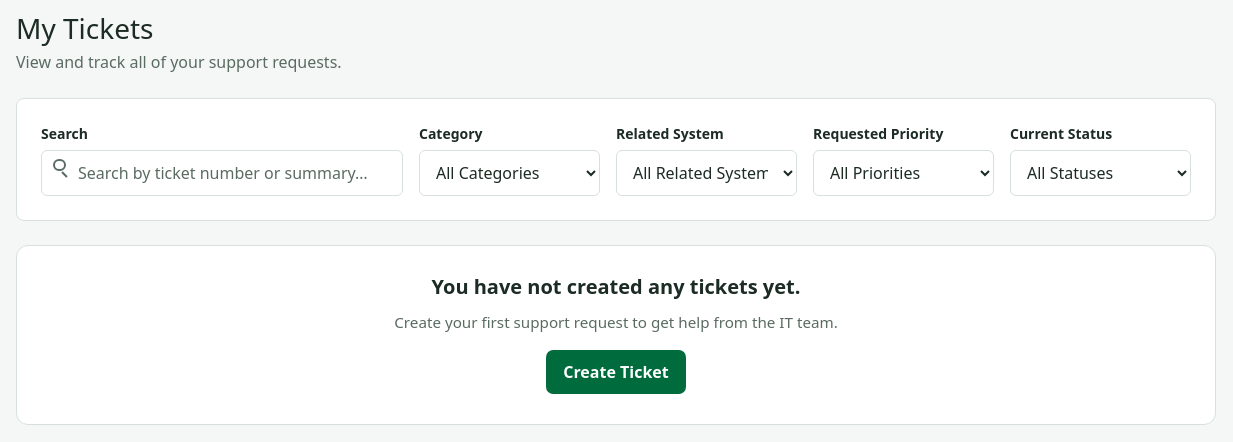
Test case: MyTickets › UI-16 / AC-25 - no-results state › shows the no-results message and Clear Filters action
The image size is (1233, 442).
Type "VPN" into the field with placeholder "Search by ticket number or summary…" at (222, 173), box left=41, top=150, right=403, bottom=196
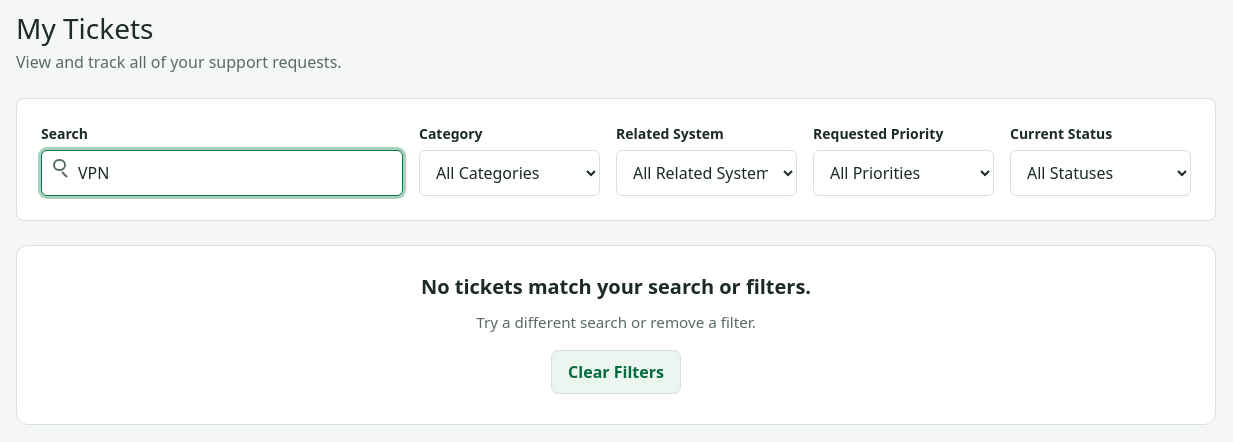
Result: the heading "No tickets match your search or filters." is shown at left=421, top=275, right=811, bottom=299
Result: the button "Clear Filters" is shown at left=551, top=350, right=681, bottom=394
Result: the heading "You have not created any tickets yet." is gone
